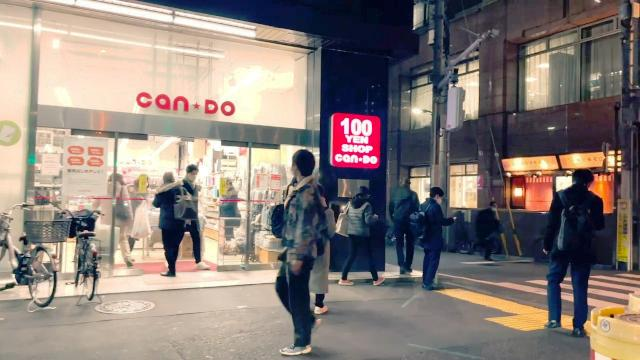berdiri: (531, 162, 607, 340), (418, 180, 452, 292)
berjalan: (258, 147, 324, 357), (334, 173, 386, 293), (152, 172, 192, 276)
